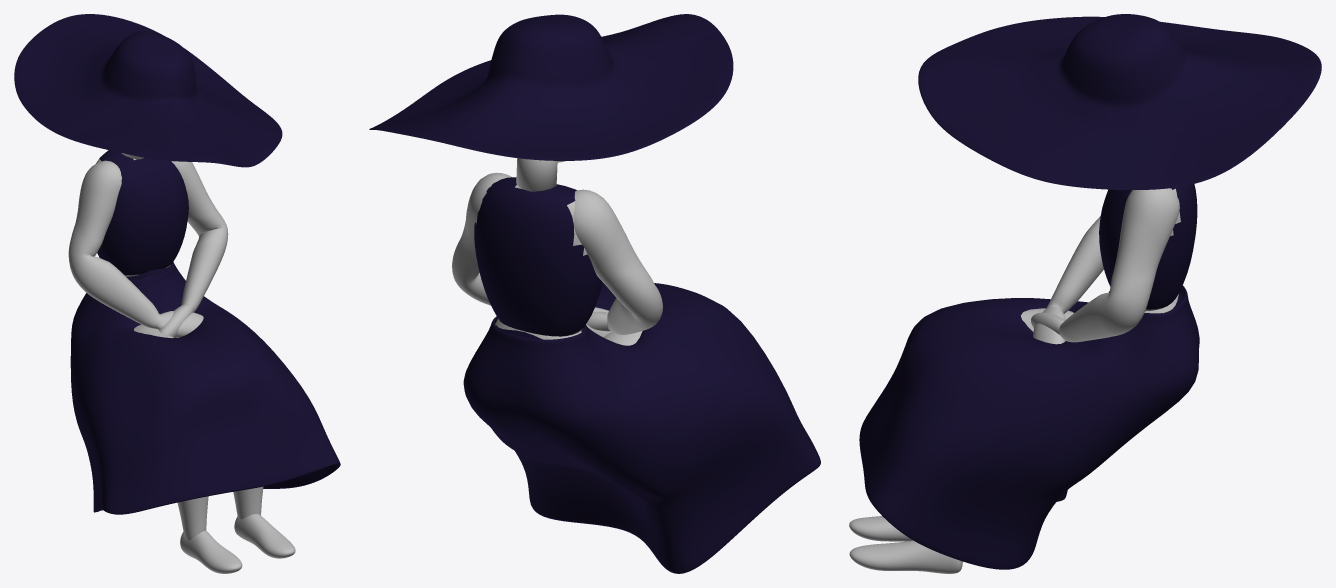
The model's file is SeatedNPC.1.fbx.
The picture shows the model from 3 angles, left to right: view 1: azimuth 30°, elevation 25°; view 2: azimuth 150°, elevation 25°; view 3: azimuth 270°, elevation 25°; orthographic projection. The views are drawn at different scales.
Parts seen in each view (by area): view 1: Circle, Sphere, upperBody; view 2: Circle, Sphere, upperBody; view 3: Circle, Sphere, upperBody.
Part boxes in pixels (x1,y1,x2,y2): Circle: (70,262,340,514); Sphere: (14,14,282,167); upperBody: (68,150,295,573); Circle: (463,282,820,573); Sphere: (369,14,733,160); upperBody: (452,158,662,345); Circle: (859,285,1199,569); Sphere: (918,14,1321,189); upperBody: (849,184,1197,573).
Size of the model in its own units: 282 by 525 by 416.
